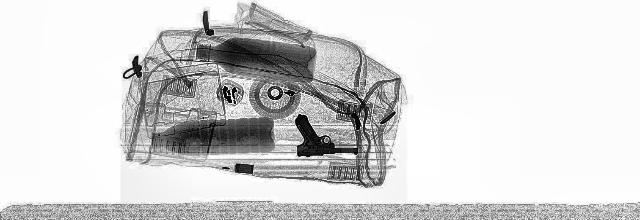Gun: (256, 115, 358, 159)
